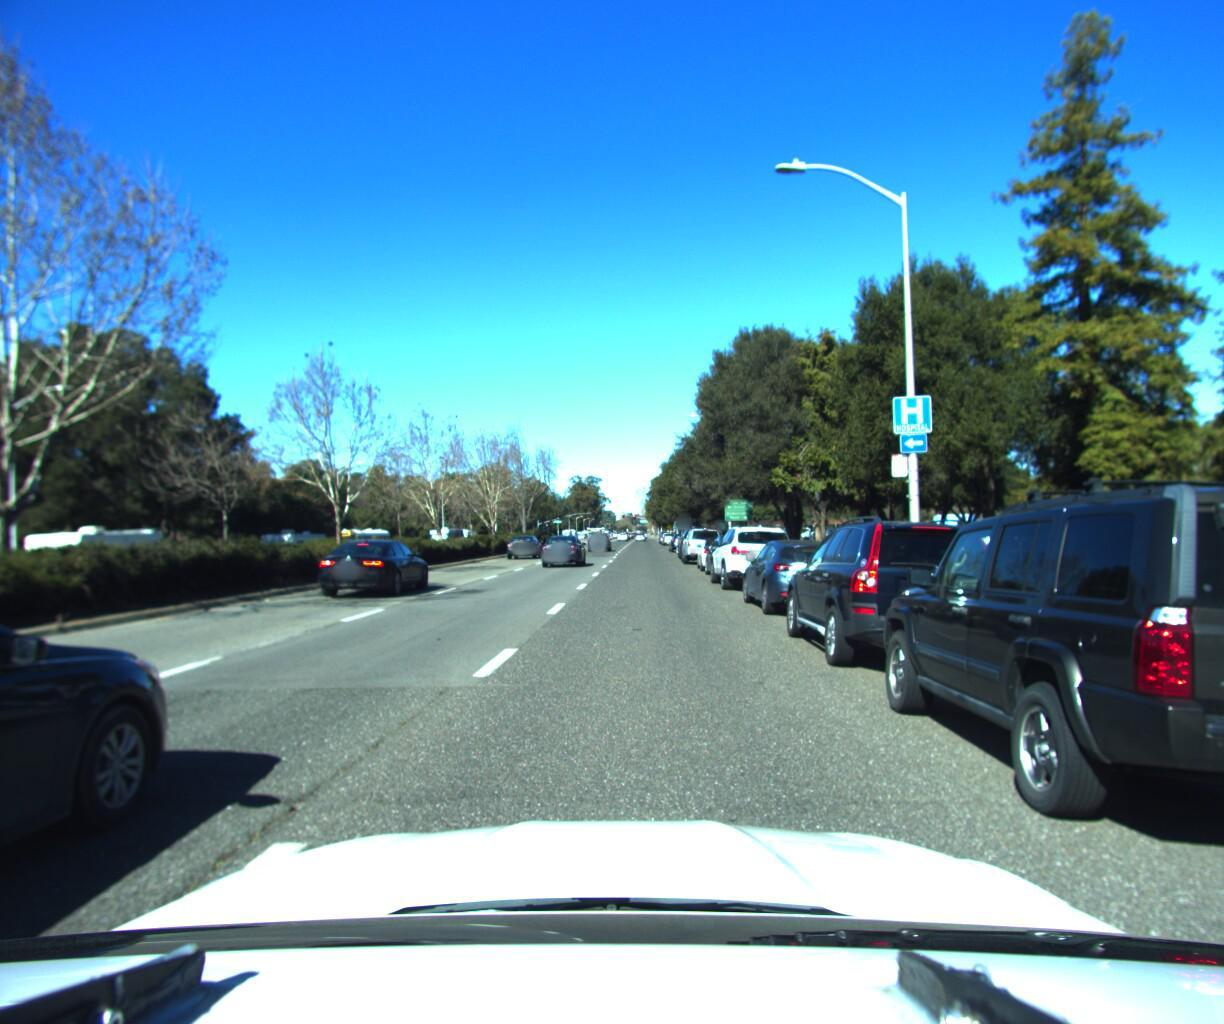bus: (321, 523, 393, 565)
car: (856, 433, 1224, 913), (0, 544, 204, 1024), (772, 504, 1023, 684), (732, 528, 866, 617), (314, 536, 438, 602), (703, 520, 801, 592), (700, 529, 767, 579), (692, 532, 745, 571), (679, 522, 727, 564), (539, 530, 584, 564), (504, 533, 546, 561), (585, 530, 611, 550)
other_vehicle: (14, 527, 172, 604), (254, 529, 328, 574)
